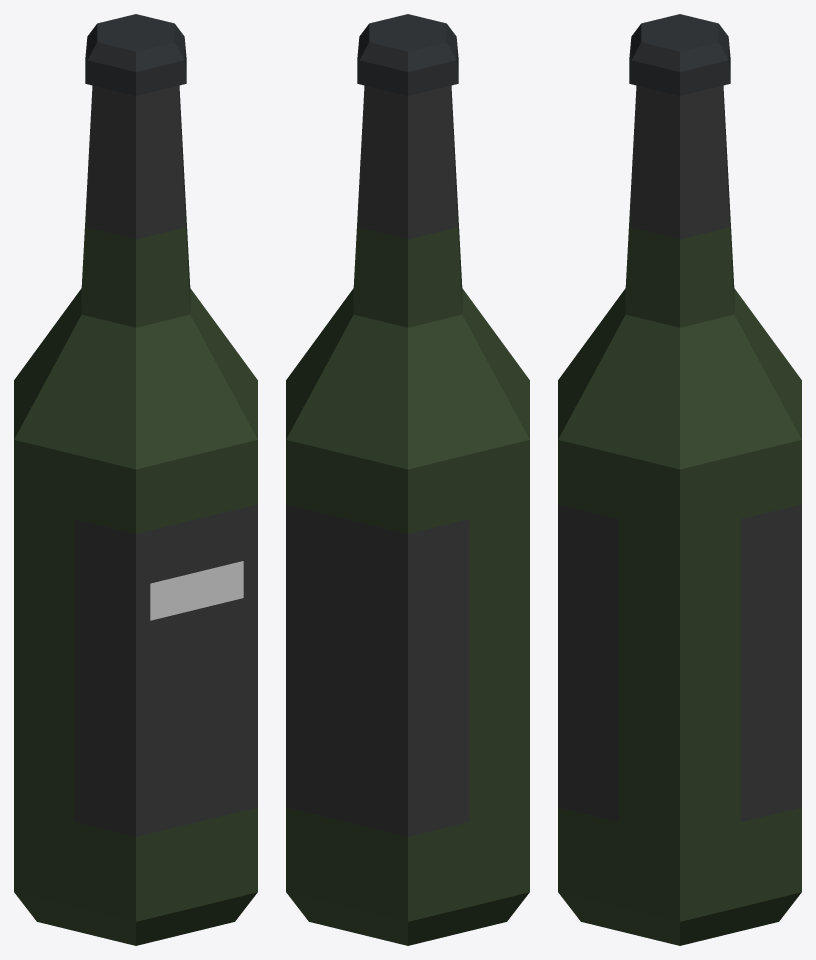
Rendered from SM_Item_Alcohol_02.fbx.
3 renders of one model, left to right at view 1: azimuth 30°, elevation 25°; view 2: azimuth 150°, elevation 25°; view 3: azimuth 270°, elevation 25°, orthographic.
Visible parts, largest first — view 1: SM_Item_Alcohol_02; view 2: SM_Item_Alcohol_02; view 3: SM_Item_Alcohol_02.
Part boxes in pixels (box(x1,y1,x2,y2)): SM_Item_Alcohol_02: box(14, 14, 257, 945); SM_Item_Alcohol_02: box(286, 14, 529, 945); SM_Item_Alcohol_02: box(558, 14, 801, 945).
Size of the model in its own units: 14.14 by 47.91 by 12.25.
